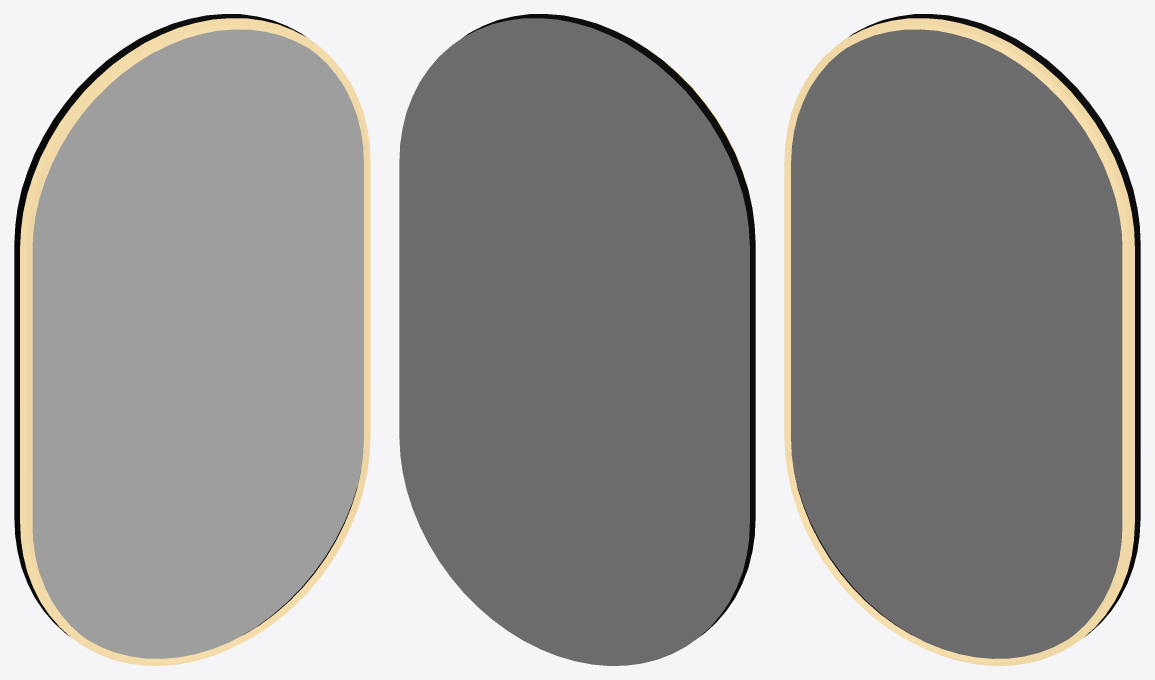
3 renders of one model, left to right at view 1: azimuth 30°, elevation 25°; view 2: azimuth 150°, elevation 25°; view 3: azimuth 330°, elevation 25°, orthographic.
Parts seen in each view (by area): view 1: Item_mirror; view 2: Item_mirror; view 3: Item_mirror.
Boxes of the visible parts, bbox=[...] form: Item_mirror: bbox=[14, 14, 370, 665]; Item_mirror: bbox=[399, 14, 755, 665]; Item_mirror: bbox=[784, 14, 1140, 665].
Bounding box in the file's own units: 0.7412 × 1.29 × 0.0418.
